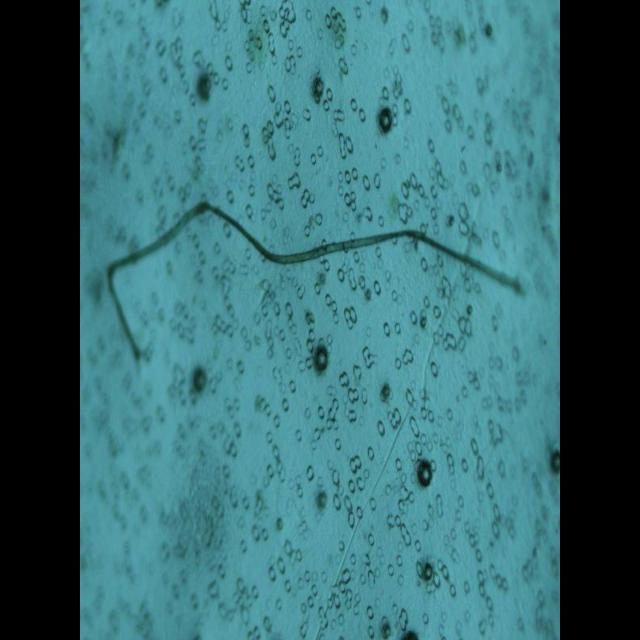Fibre: (97, 186, 539, 396)
